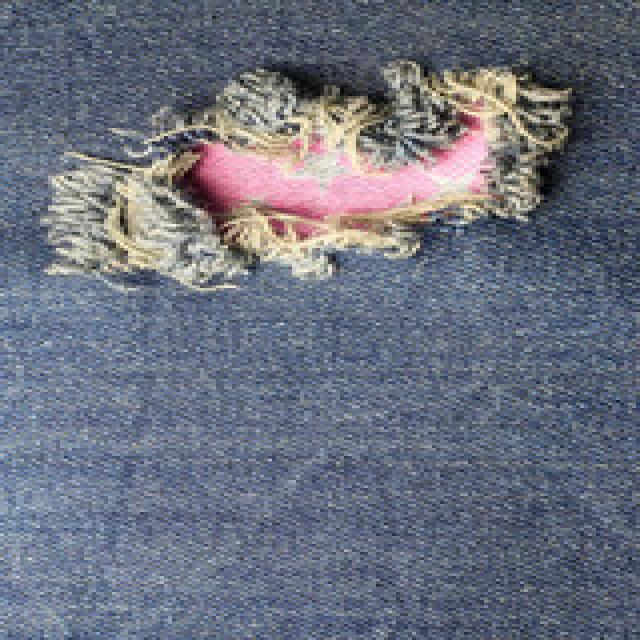Hole: (44, 60, 572, 292)
